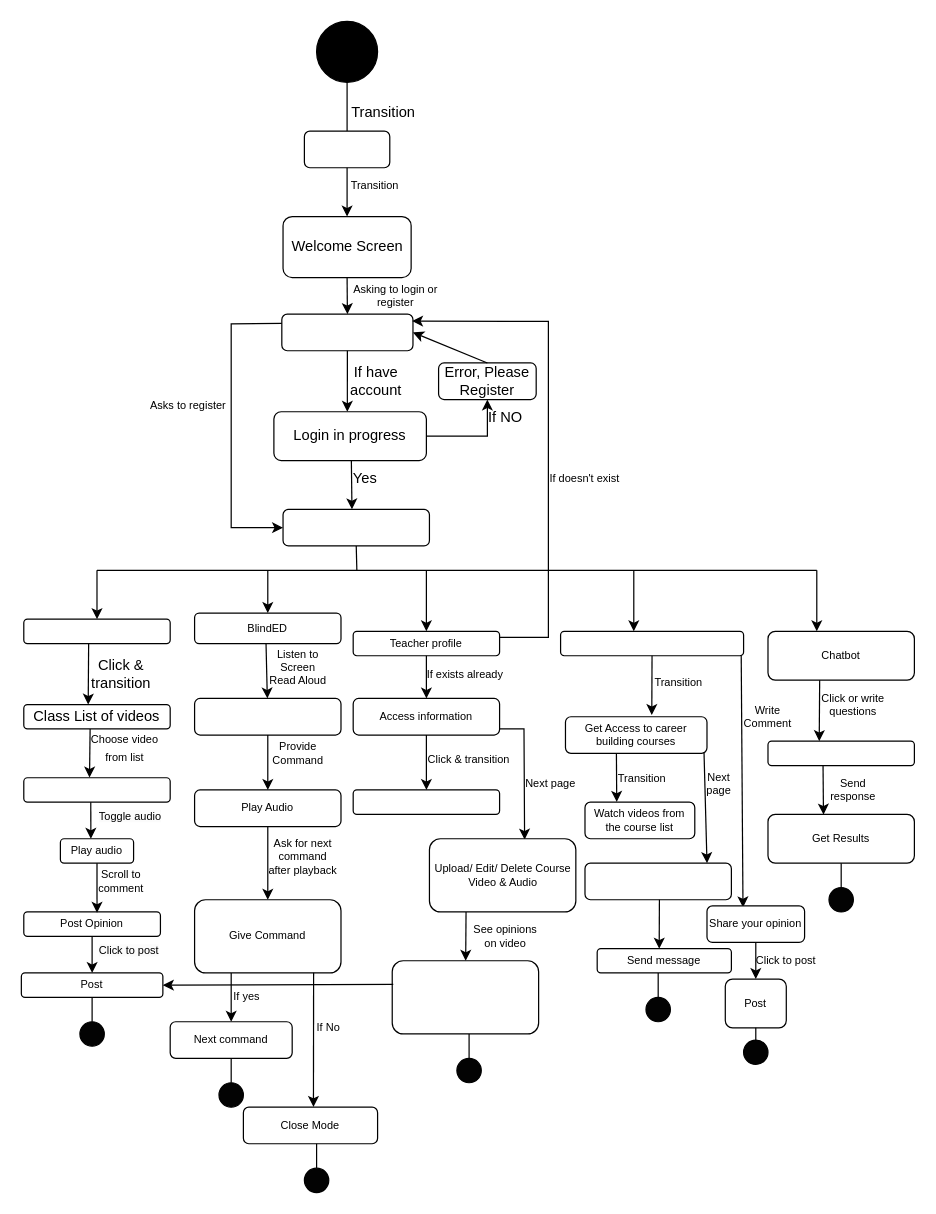
The diagram is 936 pixels wide and 1214 high, and some of its shapes have lost their labels. Each missing label, with the box of its shape:
Ask/ Send Messages: (767, 740, 914, 766)
Build Career: (559, 630, 744, 656)
Check Account status: (352, 789, 500, 814)
Check and Reply to opinion: (391, 960, 539, 1034)
Confirmed login/Registration: (282, 508, 429, 546)
Login/ Register: (281, 313, 413, 351)
Opens application: (303, 130, 390, 168)
Play video: (23, 777, 170, 802)
Respond to Voice Recognition: (193, 697, 341, 735)
Select Class: (23, 618, 170, 644)
Talk to experts: (584, 862, 731, 900)
